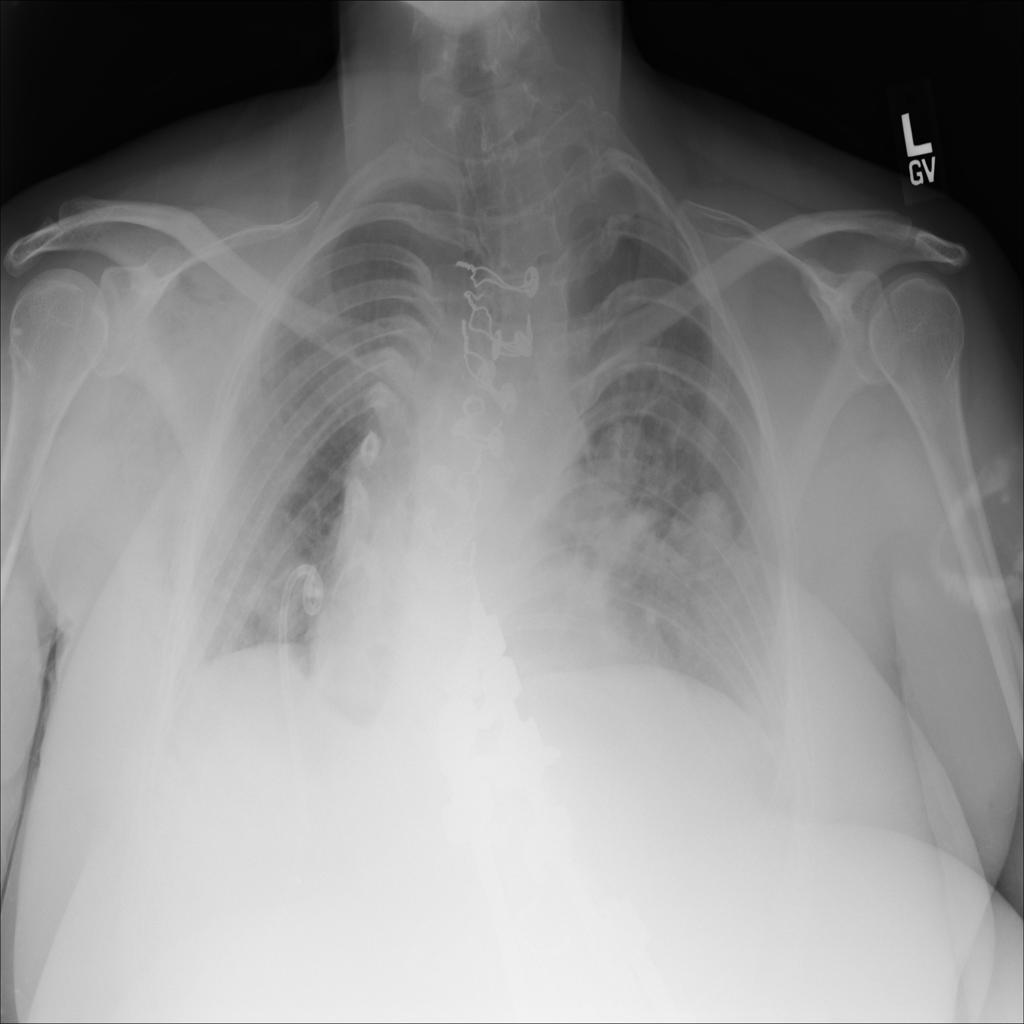nodule: (593, 414, 664, 502), (671, 481, 743, 567)
